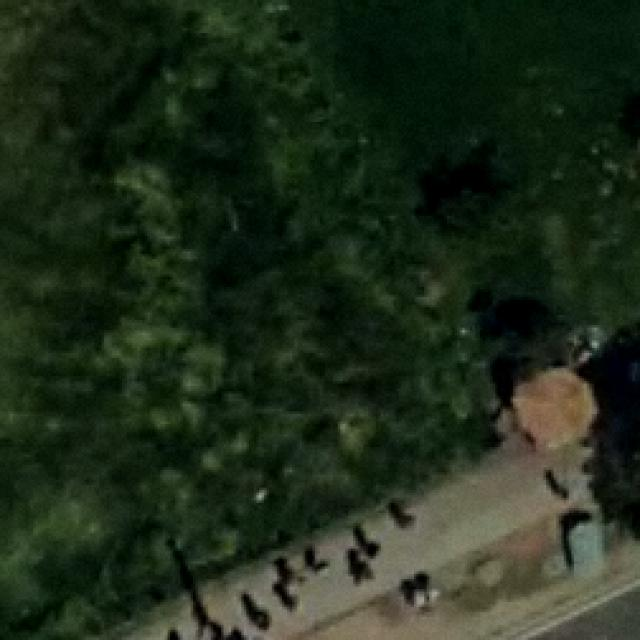vendedor_ambulante: (507, 361, 602, 451)
